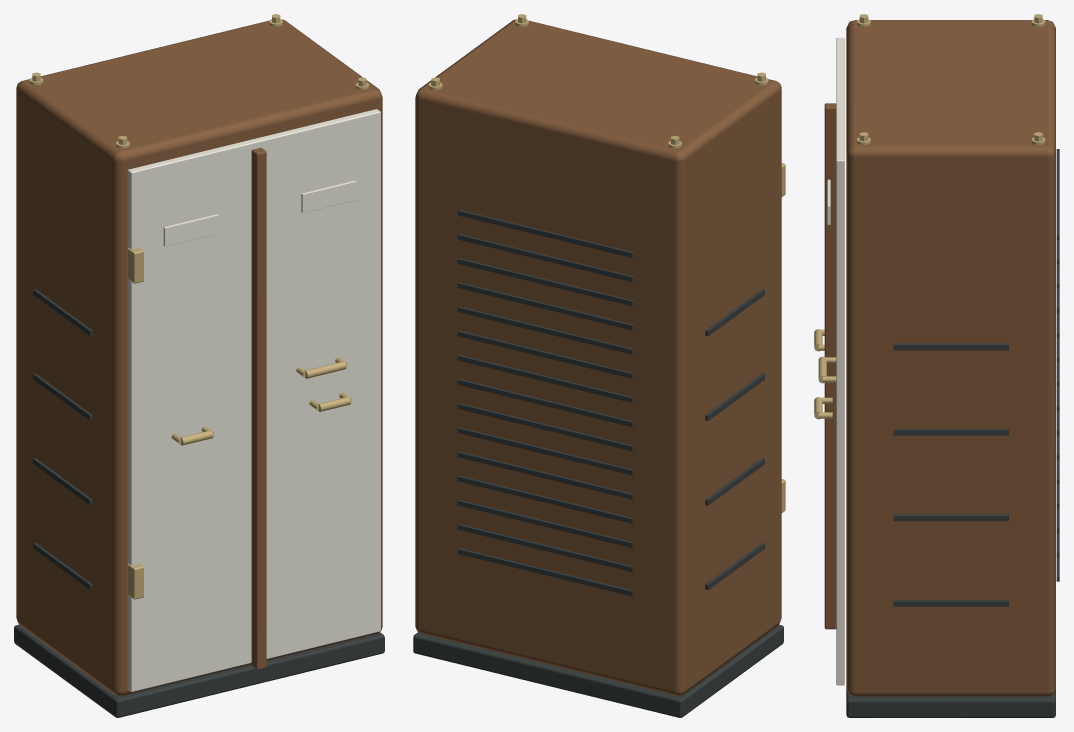
Rendered from city-courthouse-and-records-office-city-courthouse-and-693b901b__30998.glb.
The picture shows the model from 3 angles, left to right: view 1: azimuth 30°, elevation 25°; view 2: azimuth 150°, elevation 25°; view 3: azimuth 270°, elevation 25°; orthographic projection.
Parts seen in each view (by area): view 1: city-courthouse-and-records-office-coat-and-bag-locker; view 2: city-courthouse-and-records-office-coat-and-bag-locker; view 3: city-courthouse-and-records-office-coat-and-bag-locker.
Boxes of the visible parts, bbox=[...] form: city-courthouse-and-records-office-coat-and-bag-locker: bbox=[14, 14, 384, 717]; city-courthouse-and-records-office-coat-and-bag-locker: bbox=[413, 14, 785, 717]; city-courthouse-and-records-office-coat-and-bag-locker: bbox=[814, 14, 1059, 717].
Bounding box in the file's own units: 0.922 × 1.83 × 0.7025.
